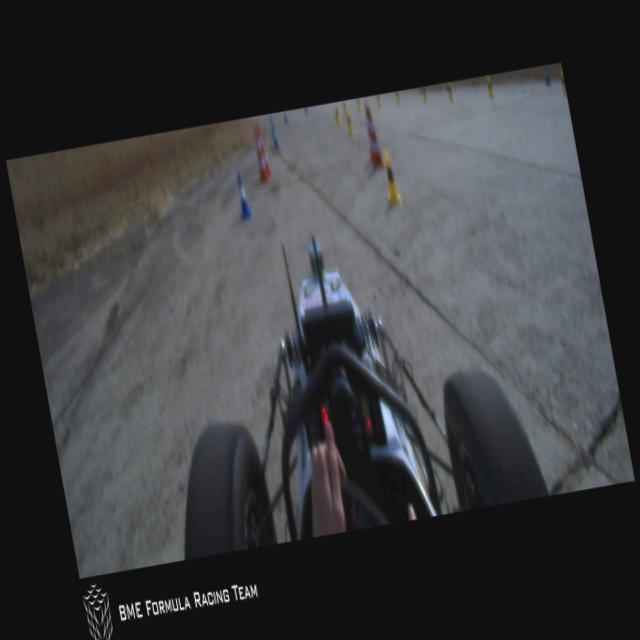blue_cone: (232, 171, 252, 221), (270, 125, 280, 150), (268, 116, 276, 138), (542, 66, 550, 86), (282, 110, 288, 125)
large_orange_cone: (362, 104, 385, 168), (250, 126, 270, 184), (360, 102, 377, 161), (256, 122, 272, 178)
yellow_cone: (379, 150, 402, 207), (343, 107, 354, 135), (485, 75, 494, 99), (332, 102, 341, 124), (559, 70, 566, 94), (446, 82, 454, 101), (421, 86, 428, 105), (355, 98, 362, 112), (376, 94, 382, 108), (394, 91, 400, 104), (342, 102, 348, 114)
